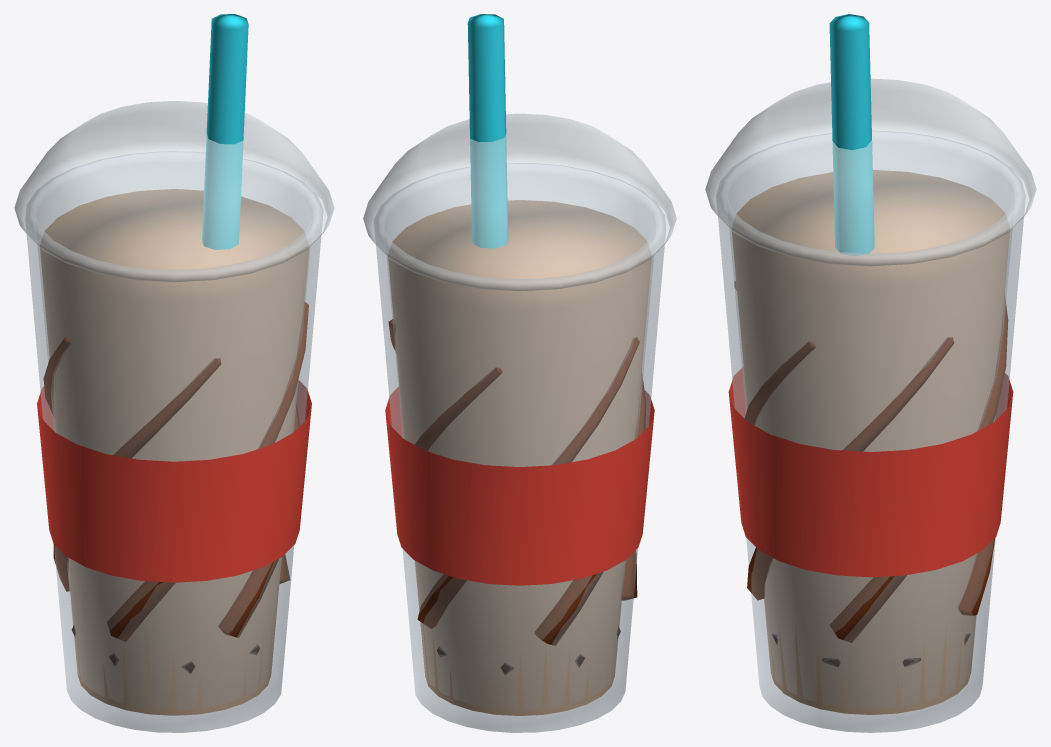
3 renders of one model, left to right at view 1: azimuth 30°, elevation 25°; view 2: azimuth 150°, elevation 25°; view 3: azimuth 270°, elevation 25°, orthographic. The views are drawn at different scales.
Parts seen in each view (by area): view 1: glass, milk_tea, lid, sleeve, straw, sugar_streaks; view 2: glass, milk_tea, lid, sleeve, straw, sugar_streaks; view 3: glass, milk_tea, lid, sleeve, straw, sugar_streaks.
Boxes of the visible parts, <box> form: glass: <box>25,151,323,732</box>; milk_tea: <box>40,189,308,715</box>; lid: <box>14,101,334,282</box>; sleeve: <box>37,380,311,582</box>; straw: <box>202,14,248,249</box>; sugar_streaks: <box>43,302,308,641</box>; glass: <box>374,163,665,732</box>; milk_tea: <box>388,200,651,715</box>; lid: <box>363,113,676,291</box>; sleeve: <box>385,387,654,585</box>; straw: <box>467,14,508,248</box>; sugar_streaks: <box>388,319,646,645</box>; glass: <box>716,131,1025,732</box>; milk_tea: <box>732,170,1009,714</box>; lid: <box>705,78,1036,266</box>; sleeve: <box>728,368,1013,577</box>; straw: <box>829,14,874,255</box>; sugar_streaks: <box>734,281,1008,642</box>.
Bounding box in the file's own units: 0.092 × 0.2116 × 0.092.
